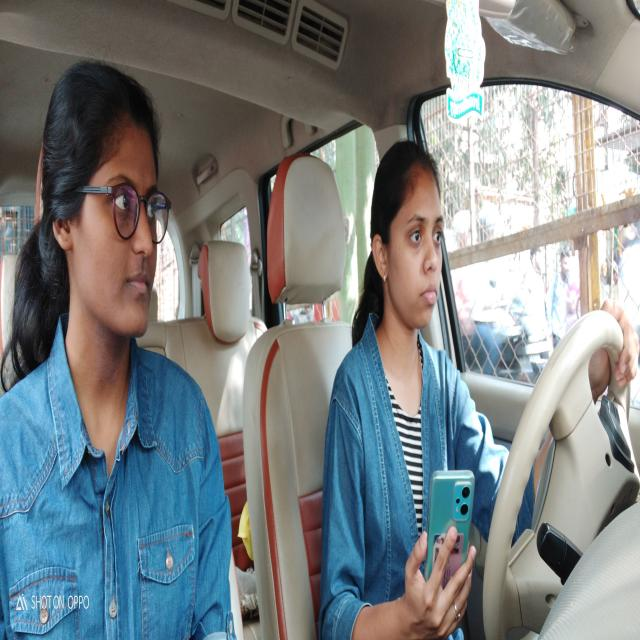mobile: (426, 453, 476, 598)
person: (42, 62, 170, 378), (367, 135, 448, 365)
